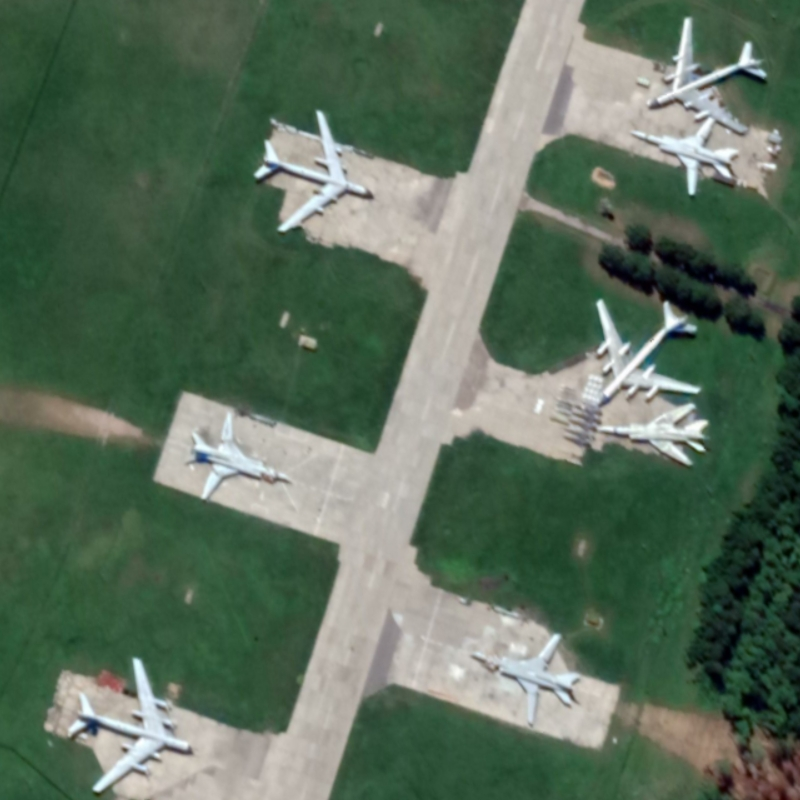A12: (470, 631, 583, 728), (184, 410, 293, 503), (628, 115, 741, 197), (595, 400, 711, 469)
A17: (65, 654, 193, 796), (250, 106, 374, 236), (645, 14, 770, 137), (593, 295, 705, 408)
